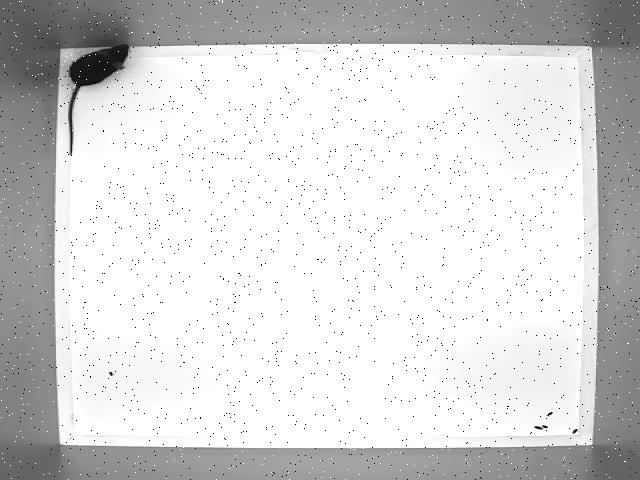Tikus: (68, 43, 134, 155)
